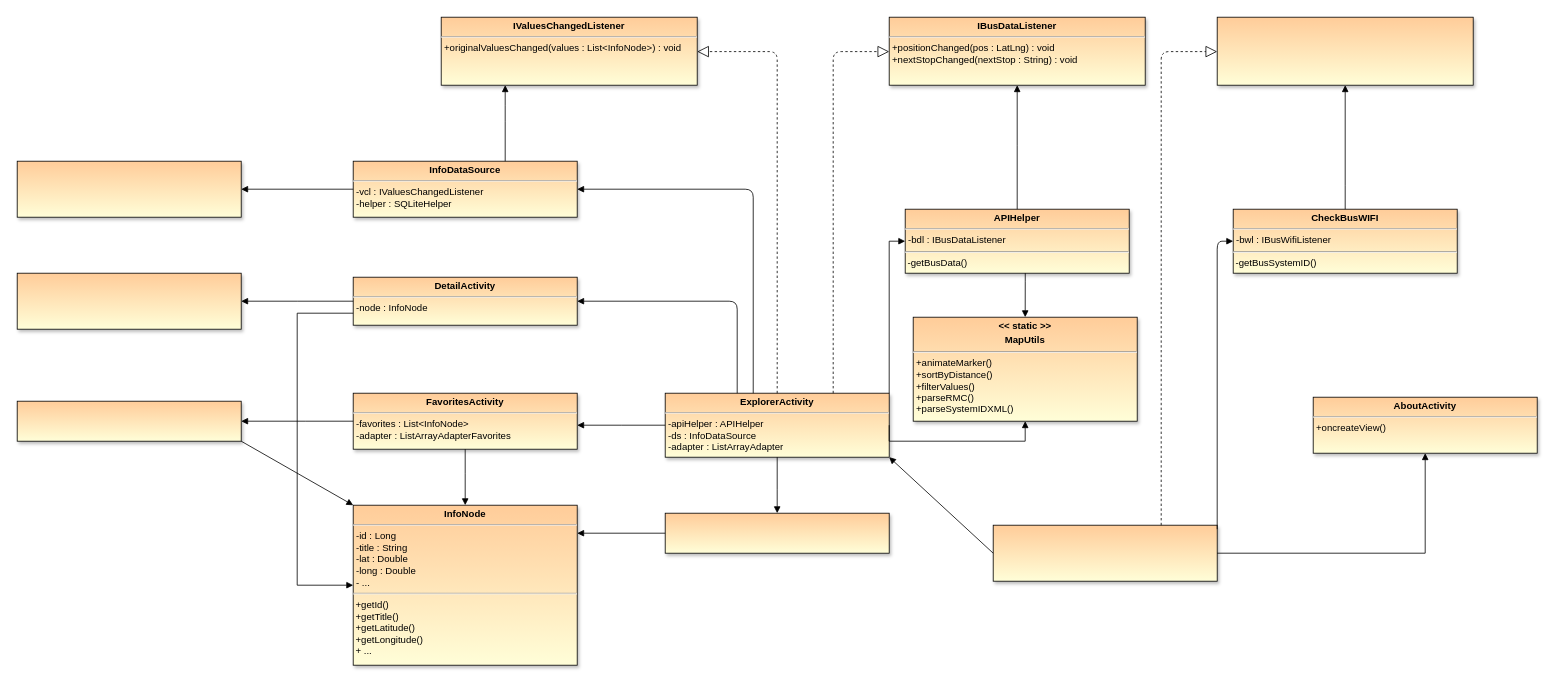
The diagram is 1556 pixels wide and 685 high, and some of its shapes have lost their labels. The centre of each missing label's shape, as x and y in pixels:
"IBusWifiListener +notifySystemId(systemId : String) : void" belongs at pixel 1345 52.
"ListArrayAdapter -values : List<InfoNode>" belongs at pixel 777 534.
"ListArrayAdapterFavorites -values : List<InfoNode>" belongs at pixel 129 422.
"MainActivity -explorerActivity : ExplorerActivity -cbw : CheckBusWIFI" belongs at pixel 1105 554.
"SQLiteHelper +onCreate() +onUpgrade()" belongs at pixel 129 190.
"TouchHighlightImageButton -onDraw() -drawableStateChanged()" belongs at pixel 129 302.
